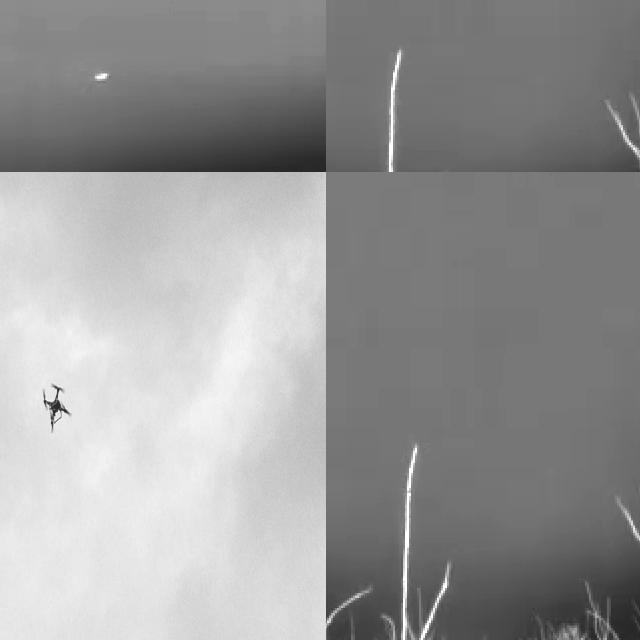1: (84, 65, 118, 95)
drone: (39, 381, 70, 430)
